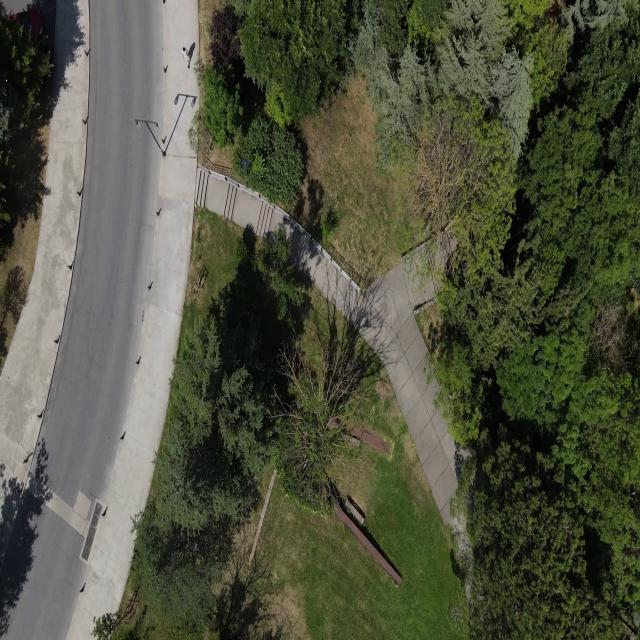p3rson: (182, 46, 189, 69)
